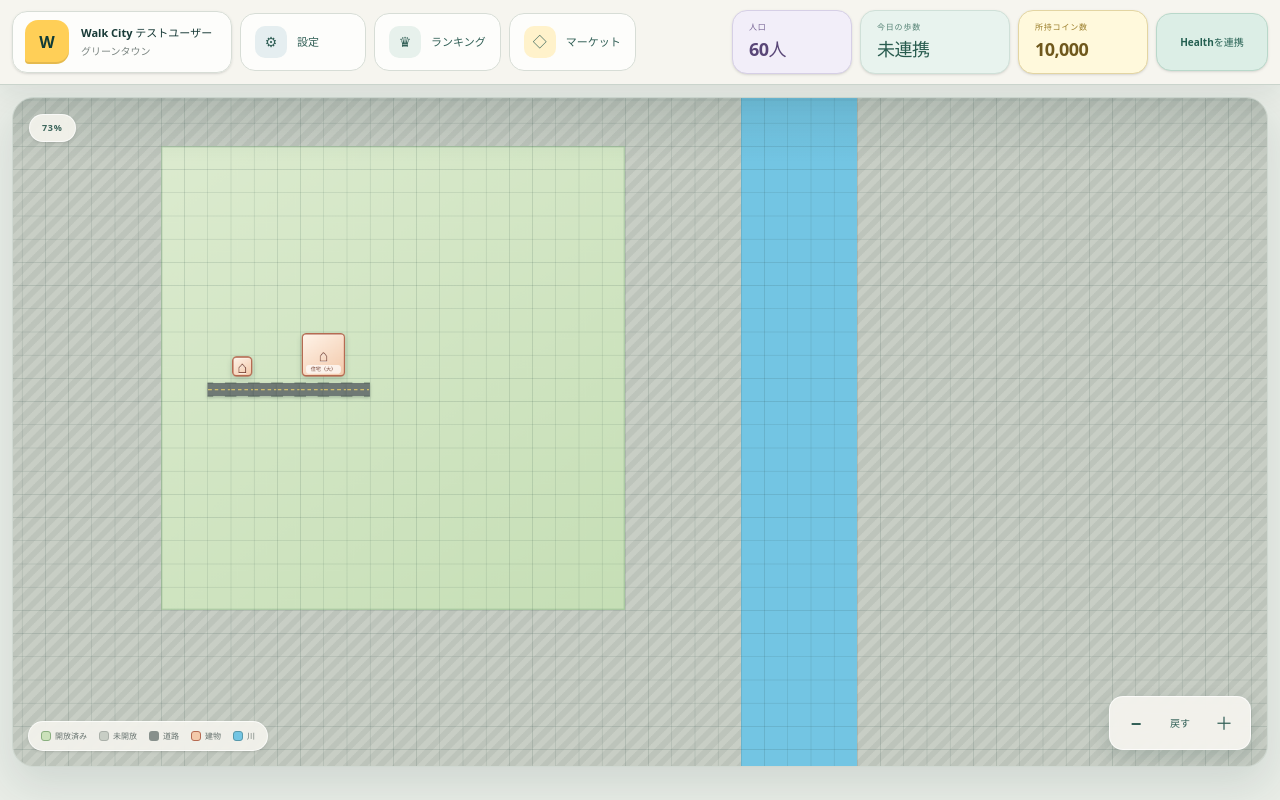
Test: AppRoutes › opens ranking over the town map instead of replacing it
Expected: the heading "グリーンタウン" is shown, [81, 44, 150, 58]
Click the button "♛ ランキング" at (437, 42), box [374, 13, 501, 71]
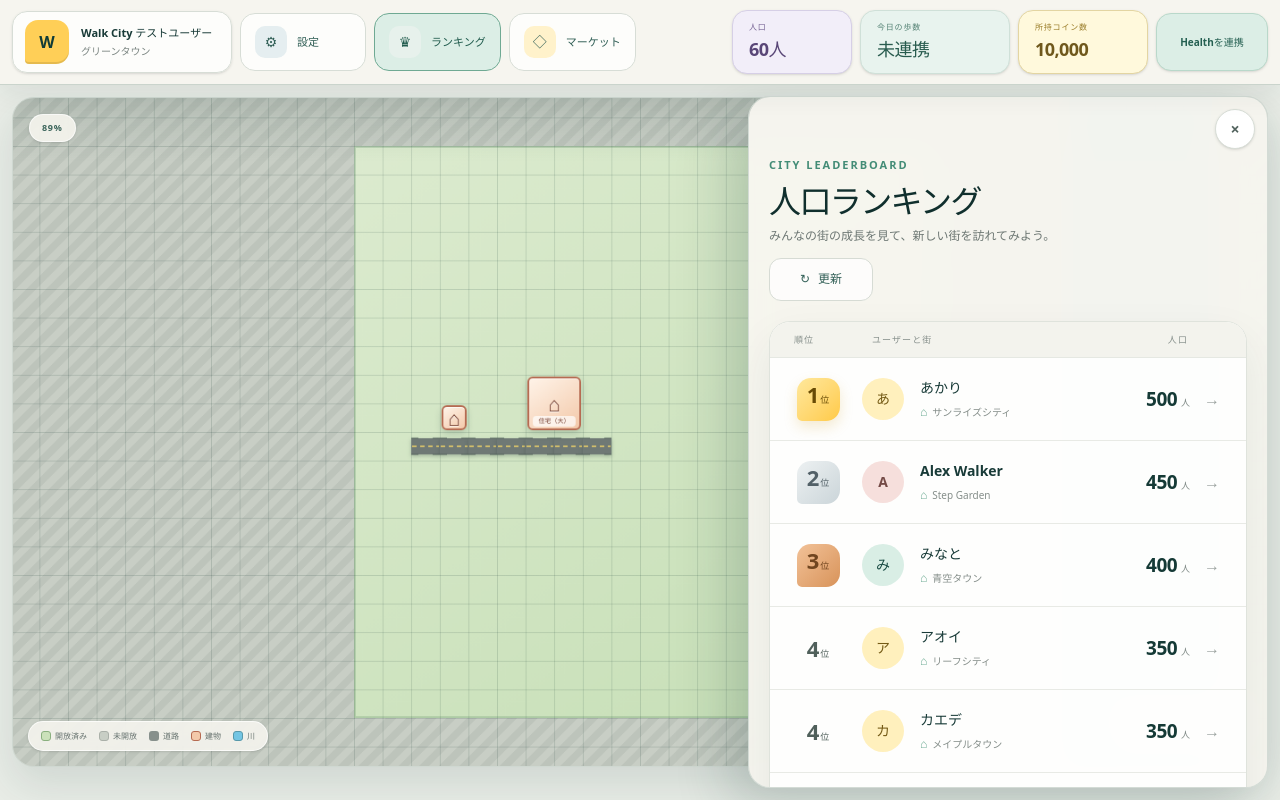
Expected: the heading "人口ランキング" is shown, [769, 178, 981, 222]
